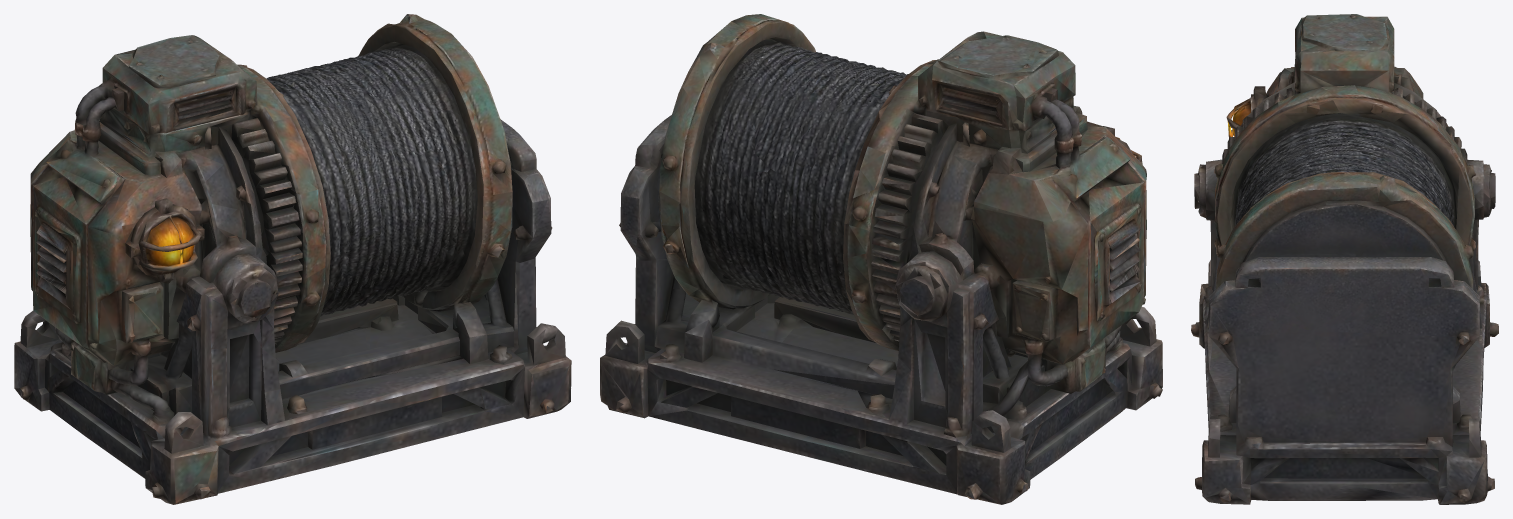
File: RelayWinch.glb
The picture shows the model from 3 angles, left to right: view 1: azimuth 30°, elevation 25°; view 2: azimuth 150°, elevation 25°; view 3: azimuth 270°, elevation 25°; orthographic projection. The views are drawn at different scales.
Visible parts, largest first — view 1: tripo_node_7fbb95cb-7fe6-429d-b0f6-0260d3fefca9; view 2: tripo_node_7fbb95cb-7fe6-429d-b0f6-0260d3fefca9; view 3: tripo_node_7fbb95cb-7fe6-429d-b0f6-0260d3fefca9.
Part boxes in pixels (x1,y1,x2,y2): tripo_node_7fbb95cb-7fe6-429d-b0f6-0260d3fefca9: [14, 14, 571, 504]; tripo_node_7fbb95cb-7fe6-429d-b0f6-0260d3fefca9: [600, 14, 1162, 504]; tripo_node_7fbb95cb-7fe6-429d-b0f6-0260d3fefca9: [1191, 14, 1498, 504].
Size of the model in its own units: 0.9795 by 0.7695 by 0.6386.
1 material, 1 textured.
